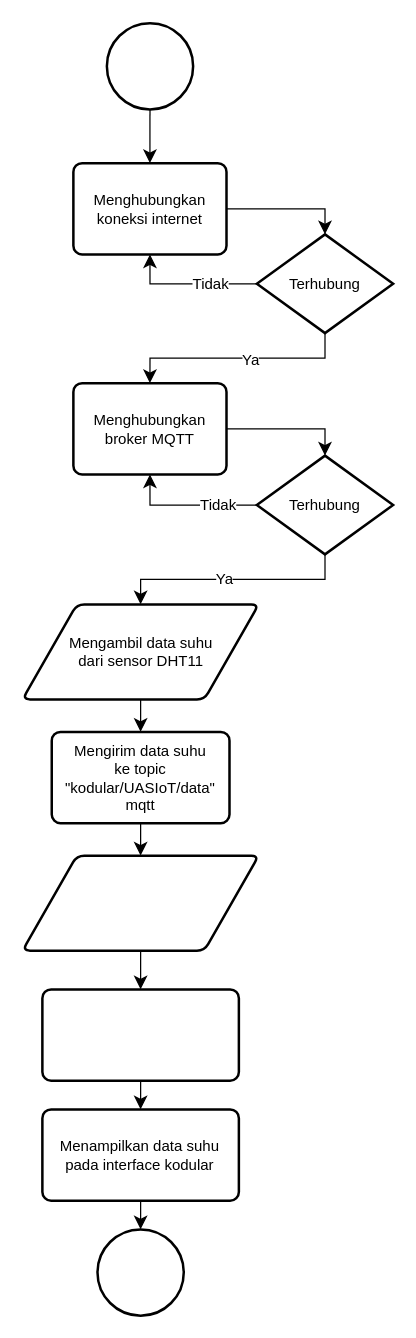
The diagram is 416 pixels wide and 1338 high, and some of its shapes have lost their labels. Here are the shapes that lost their labels. From the top down, the box of each, then its label:
(105, 21, 194, 110): Start
(21, 854, 259, 951): Mengambil data suhu dari mqtt
(40, 988, 240, 1081): Mengirim data suhu dari topic "kodular/UASIoT/data" mqtt ke kodular
(96, 1228, 184, 1316): End
